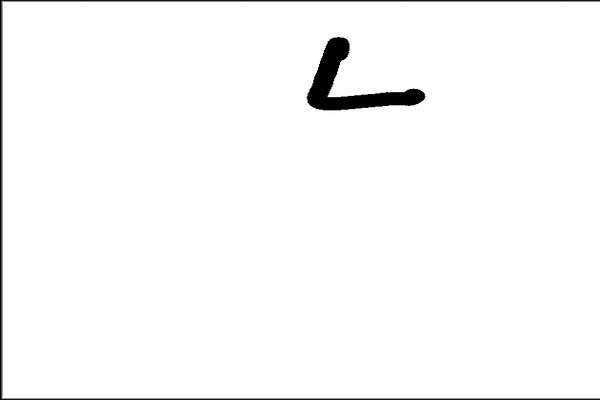L: (300, 29, 433, 119)
